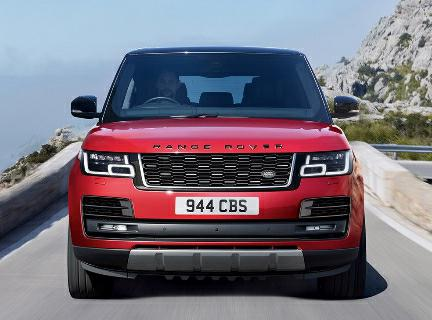路虎-揽胜: (60, 41, 373, 300)
